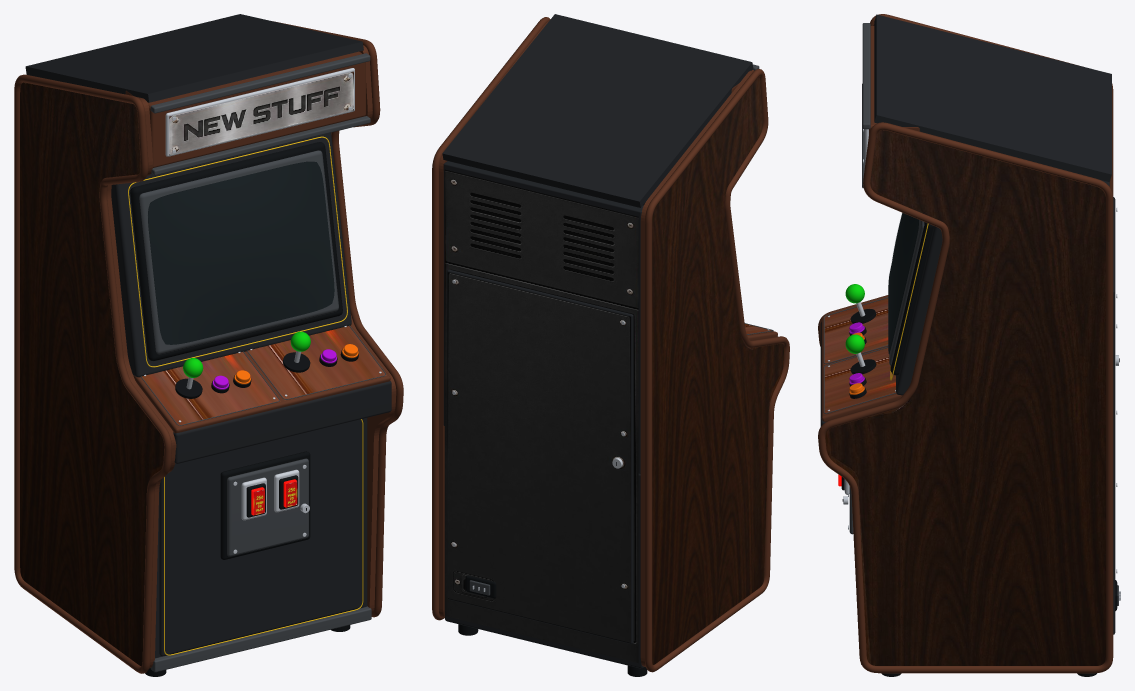
The model's file is new-stuff.glb.
3 views of the same model, side by side, from view 1: azimuth 30°, elevation 25°; view 2: azimuth 150°, elevation 25°; view 3: azimuth 270°, elevation 25° (orthographic). The views are drawn at different scales.
Visible parts, largest first — view 1: Cabinet_Static, Screen_Display; view 2: Cabinet_Static; view 3: Cabinet_Static, Screen_Display.
Part boxes in pixels (x1,y1,x2,y2): Cabinet_Static: (14,14,403,676); Screen_Display: (148,161,334,344); Cabinet_Static: (432,14,789,676); Cabinet_Static: (818,14,1120,676); Screen_Display: (888,213,918,353).
Size of the model in its own units: 0.764 by 1.8 by 0.8746.
16 materials, 4 textured.
